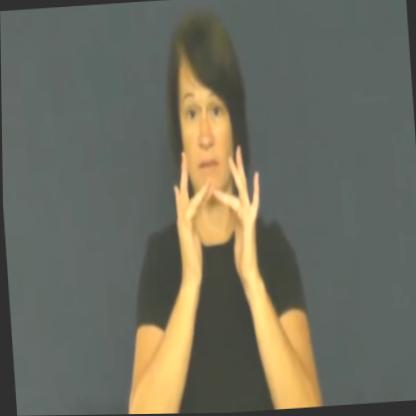Internet: (171, 131, 266, 305)
